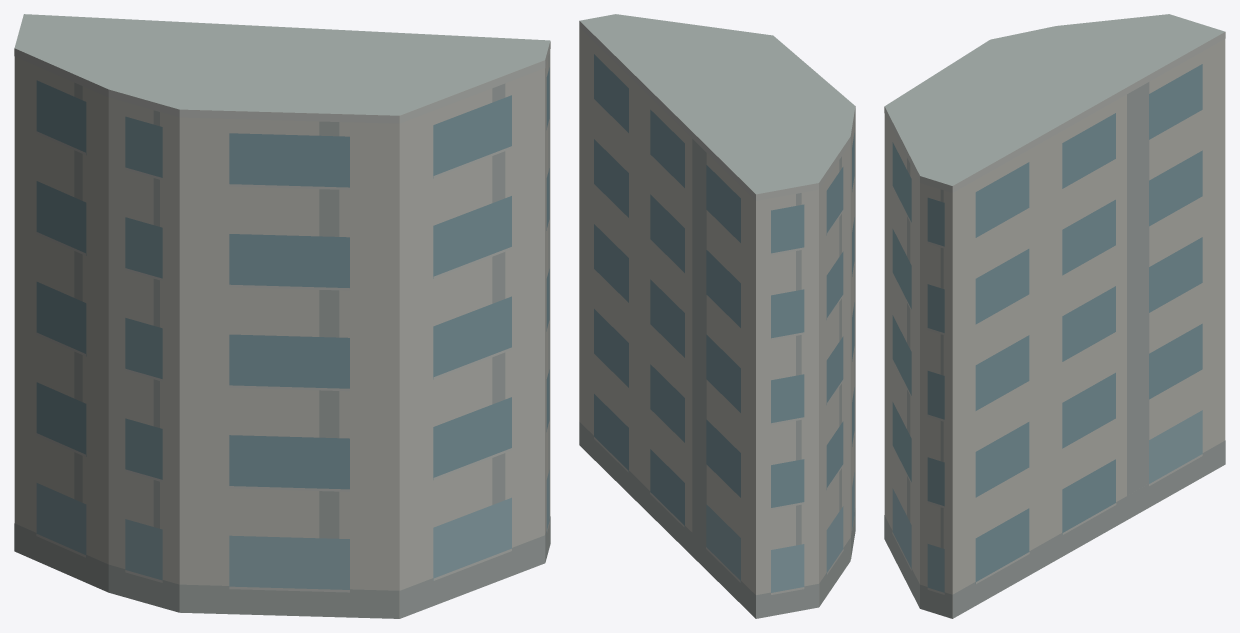
Rendered from residential-a49c719d-fe19-43c1-bce9-755d9889fd1c.glb.
The picture shows the model from 3 angles, left to right: view 1: azimuth 30°, elevation 25°; view 2: azimuth 150°, elevation 25°; view 3: azimuth 270°, elevation 25°; orthographic projection. The views are drawn at different scales.
Parts seen in each view (by area): view 1: residential-a49c719d-fe19-43c1-bce9-755d9889fd1c.tmp; view 2: residential-a49c719d-fe19-43c1-bce9-755d9889fd1c.tmp; view 3: residential-a49c719d-fe19-43c1-bce9-755d9889fd1c.tmp.
Boxes of the visible parts, <box> form: residential-a49c719d-fe19-43c1-bce9-755d9889fd1c.tmp: <box>14,14,550,618</box>; residential-a49c719d-fe19-43c1-bce9-755d9889fd1c.tmp: <box>579,14,855,618</box>; residential-a49c719d-fe19-43c1-bce9-755d9889fd1c.tmp: <box>884,14,1225,618</box>.
Size of the model in its own units: 13.01 by 15.25 by 10.9.
